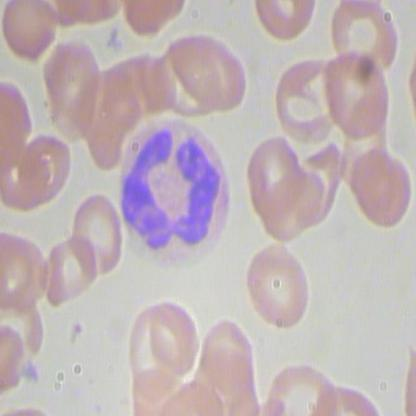Platelets: (19, 359, 47, 389)
RBC: (166, 24, 247, 119), (241, 241, 313, 329), (41, 37, 101, 133), (272, 55, 336, 144), (323, 53, 389, 138), (350, 145, 413, 227), (68, 192, 124, 279), (245, 133, 303, 211), (200, 315, 257, 393), (43, 231, 99, 309), (146, 302, 202, 376), (20, 132, 74, 204), (1, 1, 60, 62)
WBC: (116, 113, 234, 270)
